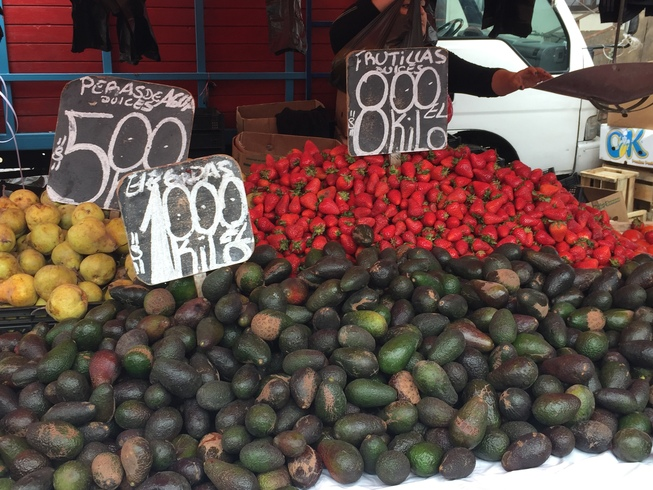precio: (43, 68, 202, 231), (109, 147, 266, 299), (342, 44, 455, 158)
